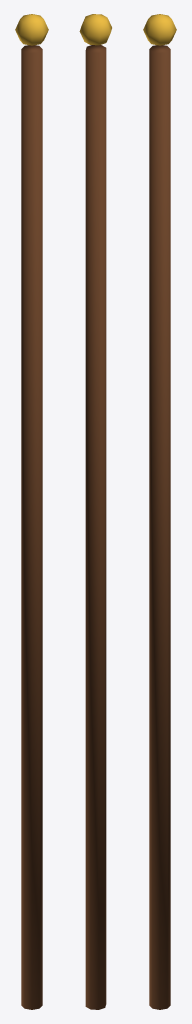
Rendered from flagpole.glb.
3 views of the same model, side by side, from view 1: azimuth 90°, elevation 25°; view 2: azimuth 150°, elevation 25°; view 3: azimuth 270°, elevation 25° (orthographic).
Parts seen in each view (by area): view 1: flagpole; view 2: flagpole; view 3: flagpole.
Part boxes in pixels (x1,y1,x2,y2): flagpole: (15, 14, 48, 1009); flagpole: (79, 14, 111, 1009); flagpole: (143, 14, 176, 1009).
Size of the model in its own units: 0.16 by 5.18 by 0.16.
